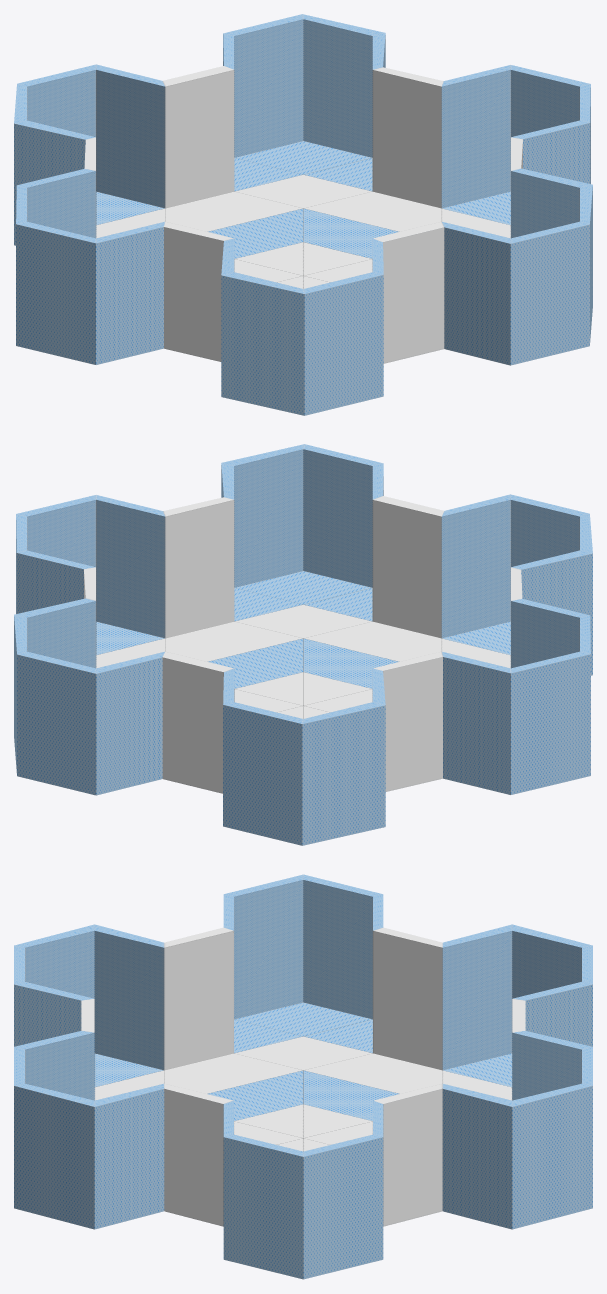
The model's file is zentai_test.fbx.
The picture shows the model from 3 angles, top to bottom: view 1: azimuth 30°, elevation 25°; view 2: azimuth 150°, elevation 25°; view 3: azimuth 270°, elevation 25°; orthographic projection.
Parts seen in each view (by area): view 1: pPlane8; view 2: pPlane8; view 3: pPlane8.
Part boxes in pixels (x1=…): pPlane8: x1=14, y1=14, x2=592, y2=415; pPlane8: x1=14, y1=444, x2=592, y2=845; pPlane8: x1=14, y1=874, x2=592, y2=1279.
Size of the model in its own units: 173 by 35 by 150.
